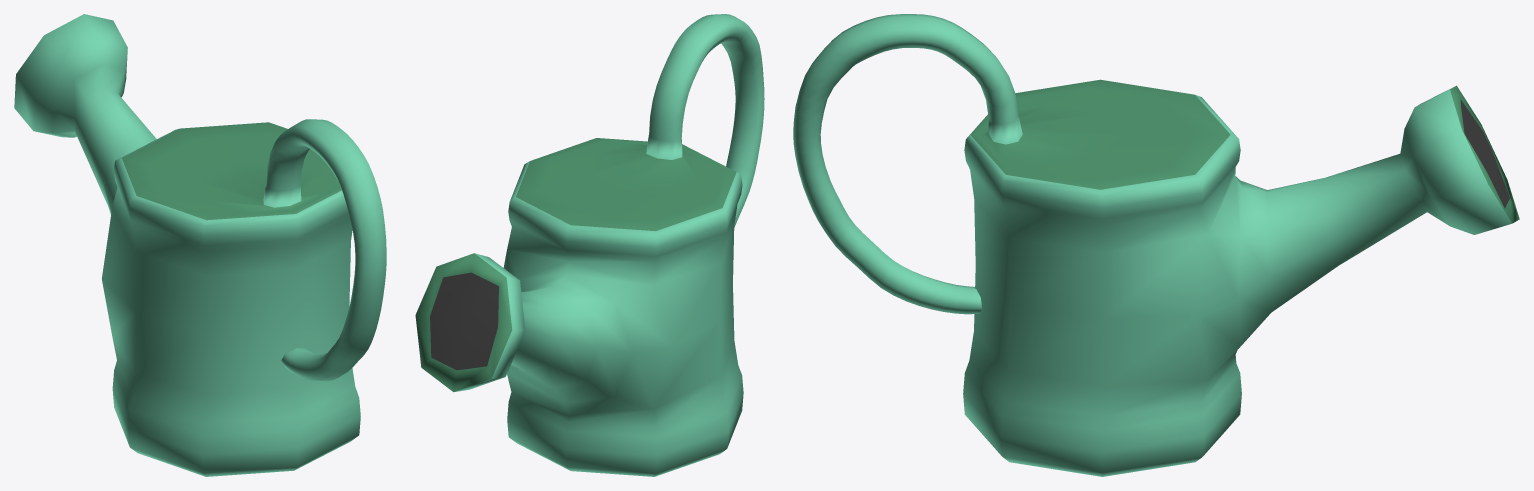
The model's file is watering can.fbx.
3 views of the same model, side by side, from view 1: azimuth 30°, elevation 25°; view 2: azimuth 150°, elevation 25°; view 3: azimuth 270°, elevation 25° (orthographic). The views are drawn at different scales.
Visible parts, largest first — view 1: Cube.002; view 2: Cube.002; view 3: Cube.002.
Part boxes in pixels (bbox=[...]): Cube.002: bbox=[14, 14, 386, 476]; Cube.002: bbox=[415, 14, 764, 476]; Cube.002: bbox=[793, 14, 1519, 476].
Bounding box in the file's own units: 301 × 487 × 785.
